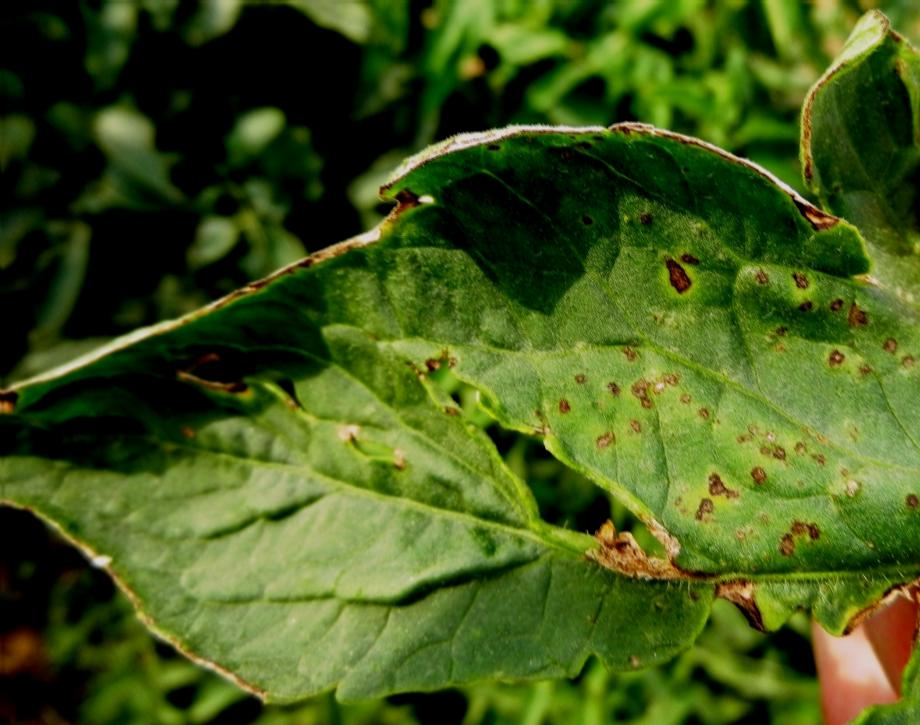Tomato leaf bacterial spot: (15, 91, 904, 685)
